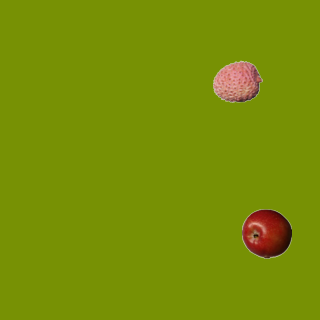Apple Braeburn: (241, 208, 291, 258)
Lychee: (212, 56, 262, 106)
